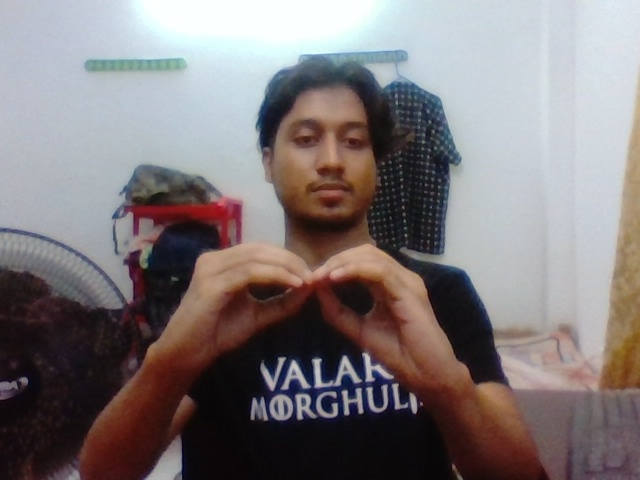B: (174, 222, 456, 390)
